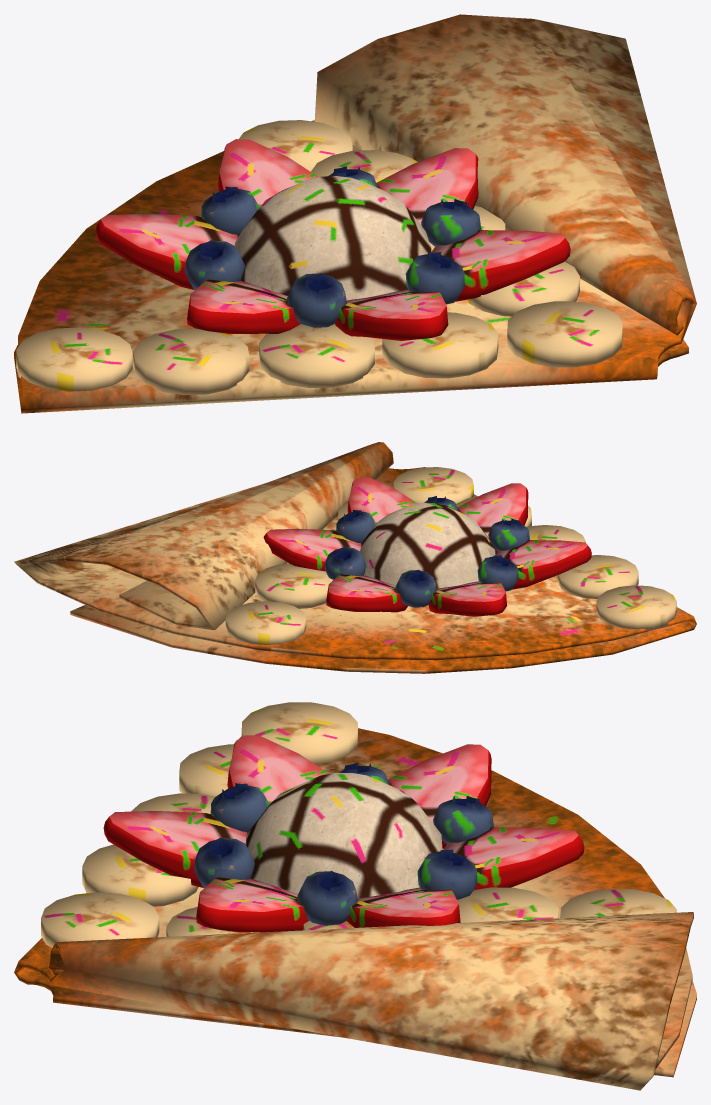
File: crepe.dae
3 views of the same model, one above another, from view 1: azimuth 30°, elevation 25°; view 2: azimuth 150°, elevation 25°; view 3: azimuth 270°, elevation 25° (orthographic). The views are drawn at different scales.
Visible parts, largest first — view 1: Cylinder.000; view 2: Cylinder.000; view 3: Cylinder.000.
Boxes of the visible parts, x1,y1,x2,y2 form: Cylinder.000: (14, 14, 696, 413); Cylinder.000: (14, 442, 696, 673); Cylinder.000: (14, 702, 696, 1090).
Bounding box in the file's own units: 1.36 × 1 × 0.1954.
1 material, 1 textured.
